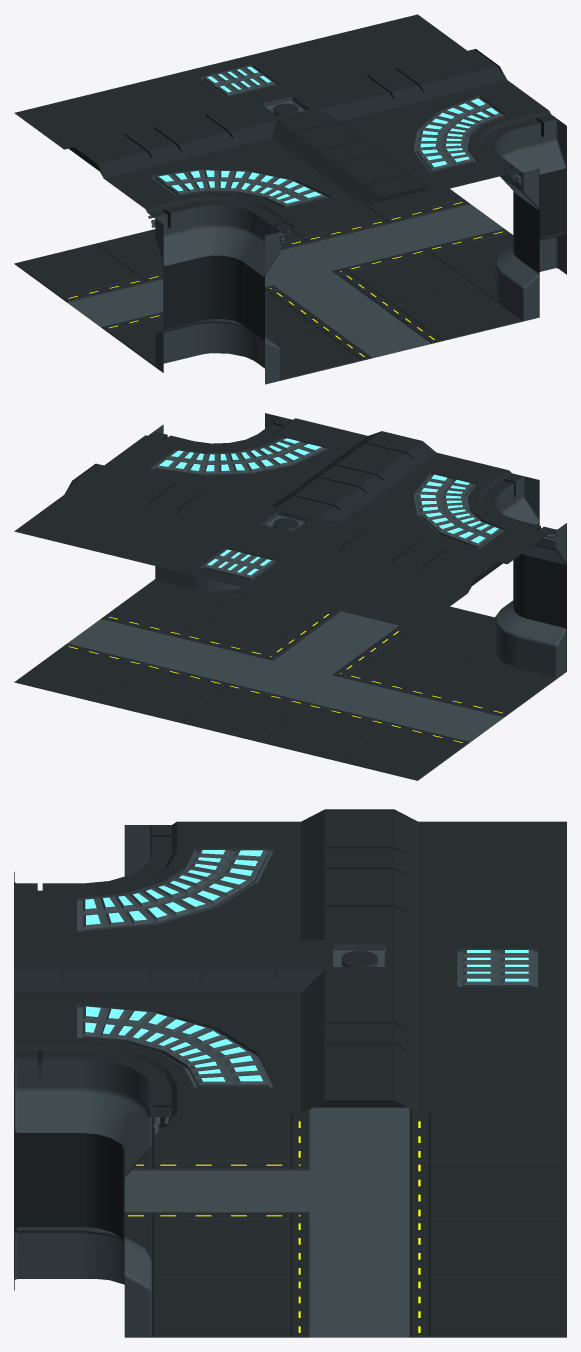
The model's file is hallDouble90.fbx.
3 views of the same model, one above another, from view 1: azimuth 30°, elevation 25°; view 2: azimuth 150°, elevation 25°; view 3: azimuth 270°, elevation 25° (orthographic). The views are drawn at different scales.
Visible parts, largest first — view 1: hallDouble90; view 2: hallDouble90; view 3: hallDouble90.
Part boxes in pixels (x1,y1,x2,y2): hallDouble90: (14,14,566,384); hallDouble90: (14,413,566,780); hallDouble90: (14,809,566,1337).
Size of what is drawn, in the model's own units: 10 by 8 by 3.77.
